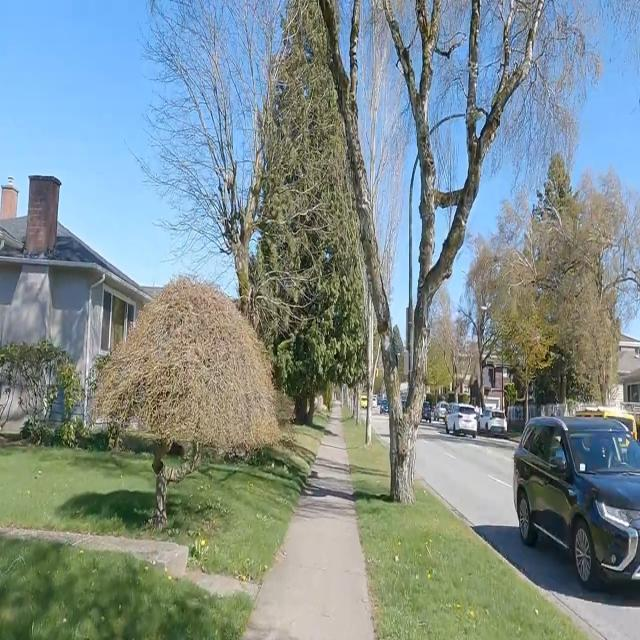Automobile: (513, 417, 639, 588), (447, 403, 477, 435), (480, 400, 506, 434), (433, 401, 446, 421), (422, 397, 431, 421), (379, 396, 387, 413)
Road: (416, 426, 639, 639)
Sidewalk: (244, 408, 374, 639)
